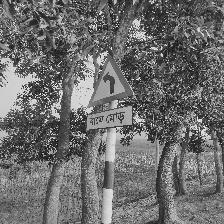Right-turn: (86, 53, 135, 133)
